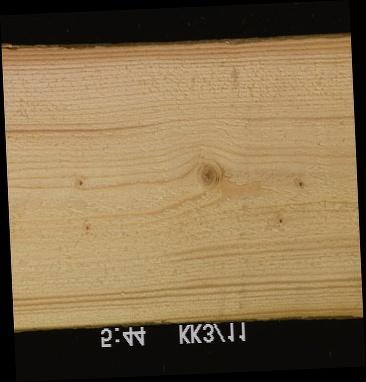small_knot: (75, 178, 84, 187), (82, 223, 91, 231), (277, 217, 282, 224)
sound_knot: (198, 159, 218, 187), (291, 177, 305, 191)
